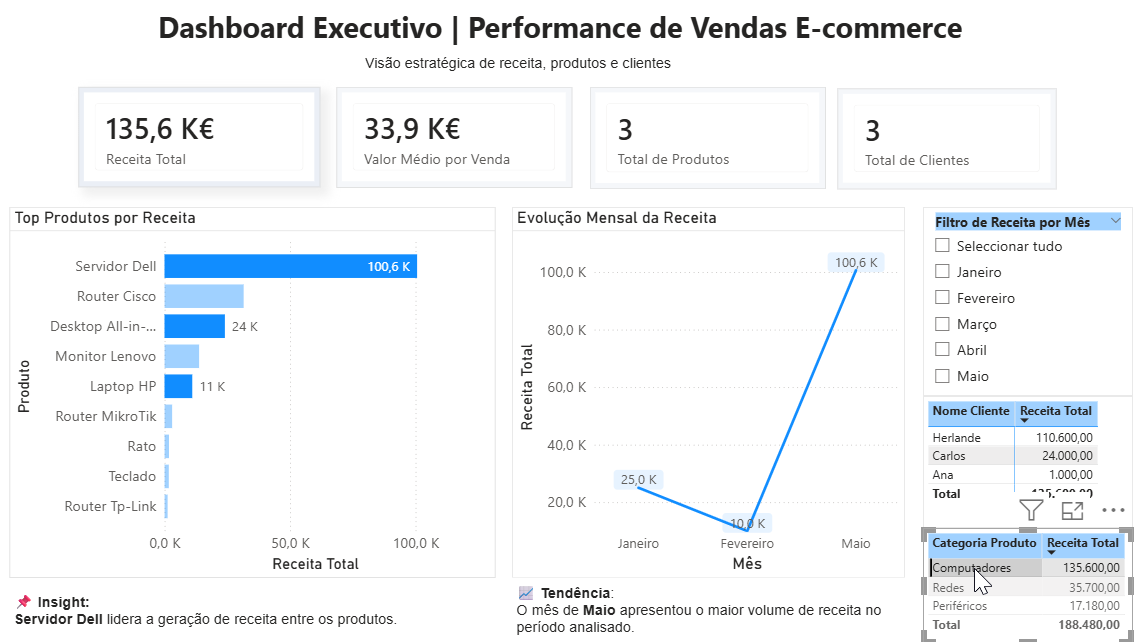

The dashboard page shown, as its layout file describes it:
{"tool":"powerbi","page":{"name":"dashboard_ecommerce","canvas":[1280,720],"ordinal":0},"visuals":[{"type":"lineChart","title":"Evolução Mensal da Receita","fields":{"Y":["Vendas .Receita Total"],"Category":["Data Venda.Mês"]},"box":[573.3,233.3,436.7,411.7],"z":0},{"type":"pivotTable","fields":{"Rows":["Clientes.Nome Cliente"],"Values":["Vendas .Receita Total"]},"box":[1030,443,233.3,146.7],"z":1000},{"type":"clusteredBarChart","title":"Top Produtos por Receita","fields":{"Category":["dim_produtos.nome"],"Y":["fato_vendas.Receita Total"]},"box":[15,233.3,540,411.7],"z":2000},{"type":"textbox","box":[175,5,968.3,53.3],"z":3000},{"type":"textbox","box":[405,58.3,470,38.3],"z":4000},{"type":"cardVisual","fields":{"Data":["fato_vendas.Receita Total"]},"box":[91.7,100,268.3,111],"z":5000},{"type":"textbox","box":[15,655,453.3,51.7],"z":6000},{"type":"slicer","fields":{"Values":["Data Venda.Mês"]},"box":[1030,233.3,233.3,210],"z":7000},{"type":"pivotTable","fields":{"Rows":["Produtos.Categoria Produto"],"Values":["Vendas .Receita Total"]},"box":[1030,590,233.3,128.3],"z":8000},{"type":"cardVisual","fields":{"Data":["Vendas .Ticket Médio"]},"box":[378.3,100,261.7,111.7],"z":9000},{"type":"cardVisual","fields":{"Data":["Vendas .Total Clientes"]},"box":[935,101.7,243.3,111.7],"z":10000},{"type":"cardVisual","fields":{"Data":["Vendas .Total Produtos"]},"box":[660,100,261.7,113.3],"z":11000},{"type":"textbox","box":[573.3,645,436.7,73.3],"z":12000}]}

Visuals, with their boxes in screenshot pixels (x1, y1, x2, y2), scaled from the page's 1280x720 canvas onto the 1144x642 screenshot:
"Evolução Mensal da Receita" lineChart: bbox=(512, 208, 903, 575)
pivotTable - Clientes.Nome Cliente x Vendas .Receita Total: bbox=(921, 395, 1129, 526)
"Top Produtos por Receita" clusteredBarChart: bbox=(13, 208, 496, 575)
textbox: bbox=(156, 4, 1022, 52)
textbox: bbox=(362, 52, 782, 86)
cardVisual - fato_vendas.Receita Total: bbox=(82, 89, 322, 188)
textbox: bbox=(13, 584, 419, 630)
slicer - Data Venda.Mês: bbox=(921, 208, 1129, 395)
pivotTable - Produtos.Categoria Produto x Vendas .Receita Total: bbox=(921, 526, 1129, 640)
cardVisual - Vendas .Ticket Médio: bbox=(338, 89, 572, 189)
cardVisual - Vendas .Total Clientes: bbox=(836, 91, 1053, 190)
cardVisual - Vendas .Total Produtos: bbox=(590, 89, 824, 190)
textbox: bbox=(512, 575, 903, 640)
